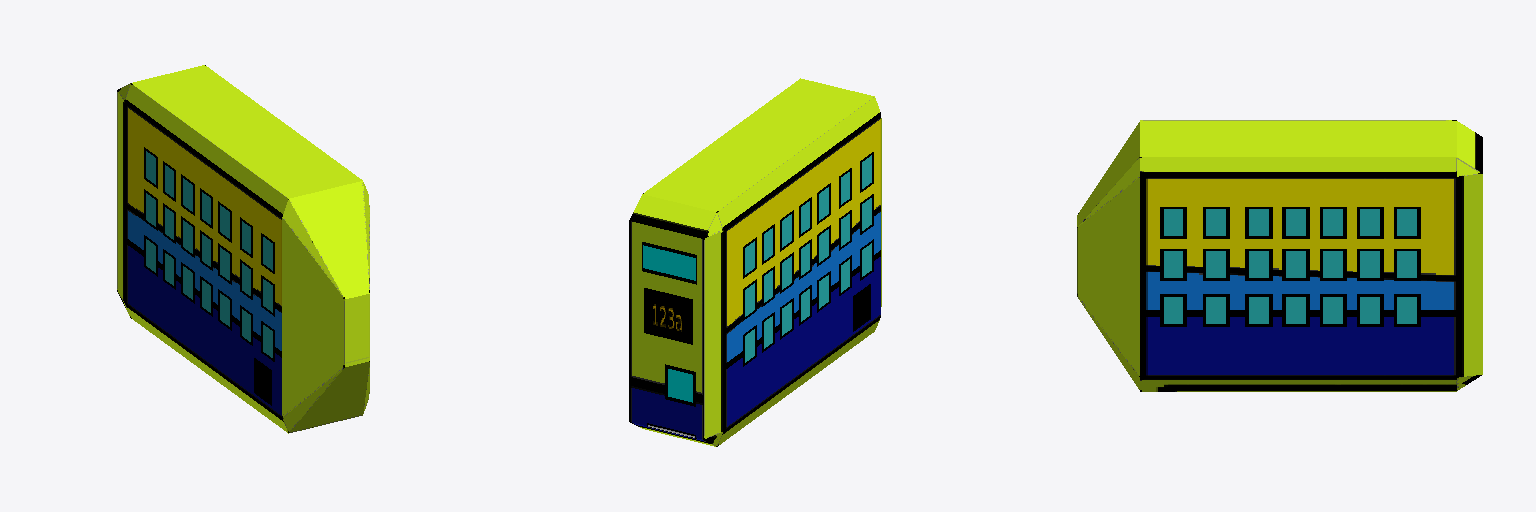
3 views of the same model, side by side, from view 1: azimuth 30°, elevation 25°; view 2: azimuth 150°, elevation 25°; view 3: azimuth 270°, elevation 25° (orthographic).
Parts seen in each view (by area): view 1: Cube_Cube.001; view 2: Cube_Cube.001; view 3: Cube_Cube.001.
Part boxes in pixels (x1,y1,x2,y2): Cube_Cube.001: (117,65,369,433); Cube_Cube.001: (629,78,881,446); Cube_Cube.001: (1077,120,1482,391).
Size of the model in its own units: 6.11 by 15.74 by 24.7.
Materials: 1 (1 with a texture image).